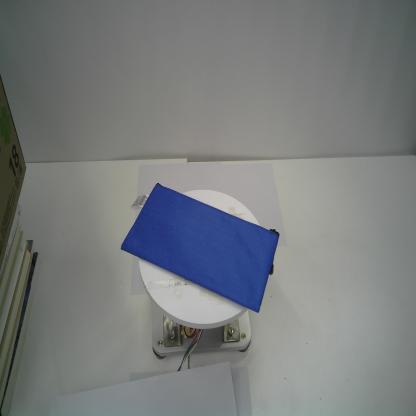Stationery: (120, 181, 281, 317)
